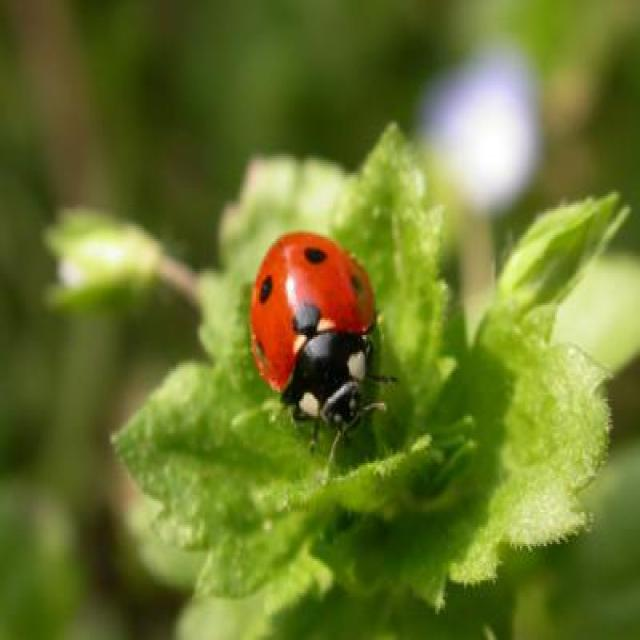antennae: (318, 428, 344, 486), (361, 396, 389, 421)
body: (248, 231, 376, 428)
insect: (249, 230, 399, 458)
legs: (364, 358, 401, 391), (309, 420, 321, 457)
wings: (249, 232, 374, 394)
